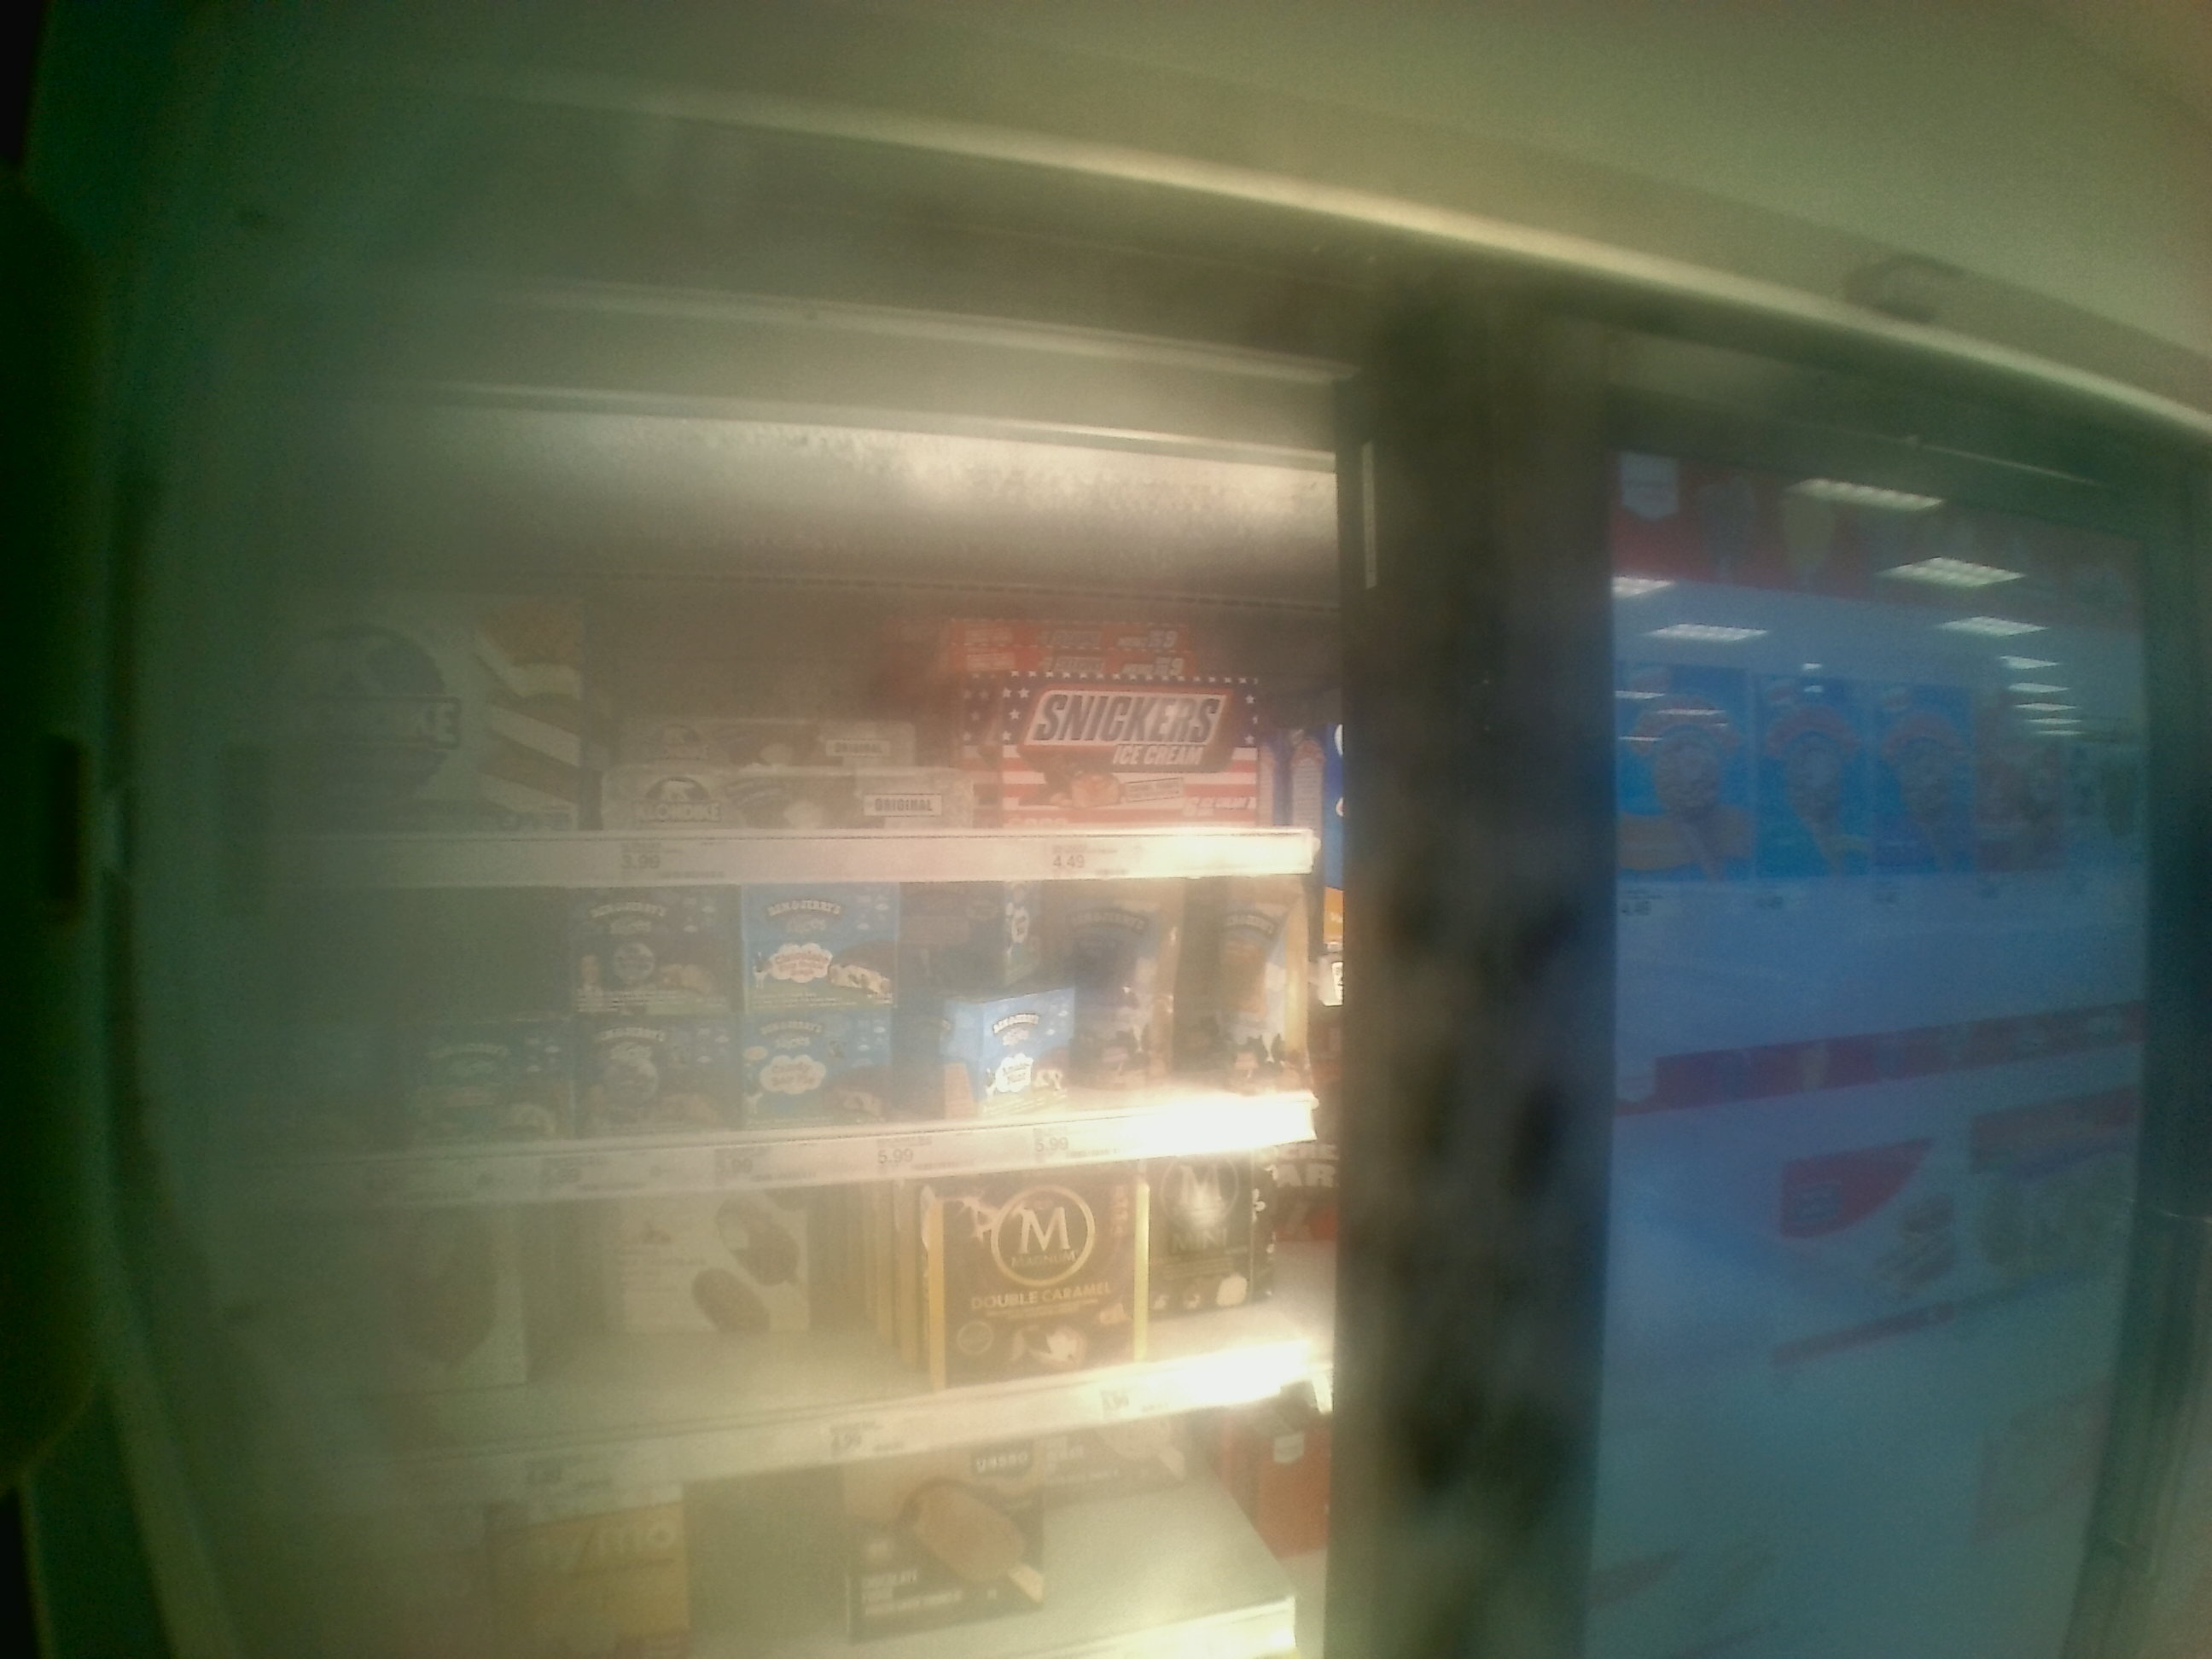ice-cream-shelf: (249, 472, 1338, 878), (246, 877, 1327, 1199)
